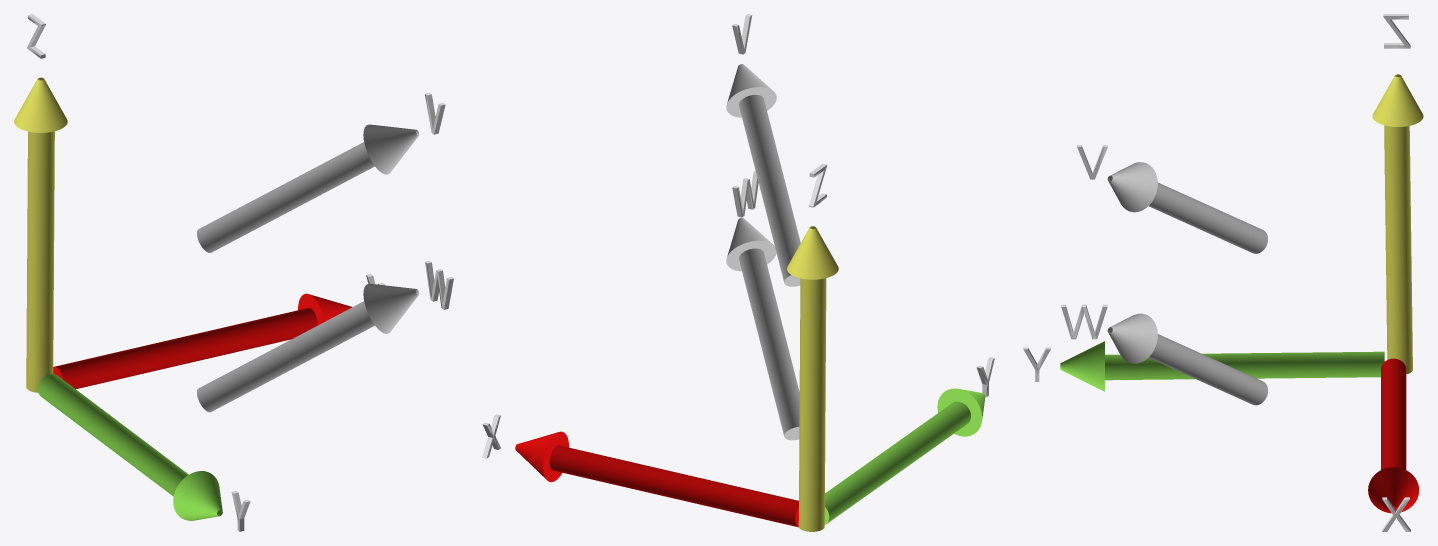
3 views of the same model, side by side, from view 1: azimuth 30°, elevation 25°; view 2: azimuth 150°, elevation 25°; view 3: azimuth 270°, elevation 25° (orthographic). The views are drawn at different scales.
Parts seen in each view (by area): view 1: Cylinder, Cylinder.2, Cylinder.4, Cylinder.3, Cylinder.1, Cone.1, Cone.2, Cone.3, Cone.4, Cone, W; view 2: Cylinder, Cylinder.2, Cylinder.4, Cylinder.3, Cylinder.1, Cone.2, Cone, Cone.3, Cone.4, Cone.1; view 3: Cylinder.2, Cylinder.1, Cylinder.4, Cylinder.3, Cylinder, Cone.4, Cone.3, Cone, Cone.2, Cone.1, Cap:1.
Boxes of the visible parts, x1,y1,x2,y2 form: Cylinder: (53,308,317,388); Cylinder.2: (26,131,54,392); Cylinder.4: (197,301,374,412); Cylinder.3: (197,142,374,252); Cylinder.1: (38,374,188,496); Cone.1: (173,471,222,520); Cone.2: (14,77,67,132); Cone.3: (363,124,419,174); Cone.4: (363,283,419,333); Cone: (298,293,351,325); W: (425,260,453,309); Cylinder: (549,445,798,527); Cylinder.2: (798,278,826,531); Cylinder.4: (739,248,799,440); Cylinder.3: (739,94,800,286); Cylinder.1: (824,401,970,524); Cone.2: (787,226,838,279); Cone: (515,431,569,482); Cone.3: (726,64,776,117); Cone.4: (726,217,776,271); Cone.1: (937,388,985,436); Cylinder.2: (1384,125,1412,374); Cylinder.1: (1105,351,1384,380); Cylinder.4: (1148,334,1267,405); Cylinder.3: (1148,182,1267,253); Cylinder: (1381,358,1406,469); Cone.4: (1107,313,1157,363); Cone.3: (1107,162,1157,212); Cone: (1368,467,1419,513); Cone.2: (1372,74,1423,126); Cone.1: (1060,341,1104,391); Cap:1: (1061,307,1107,339).
Size of the model in its own units: 0.1543 by 0.1603 by 0.1565.
